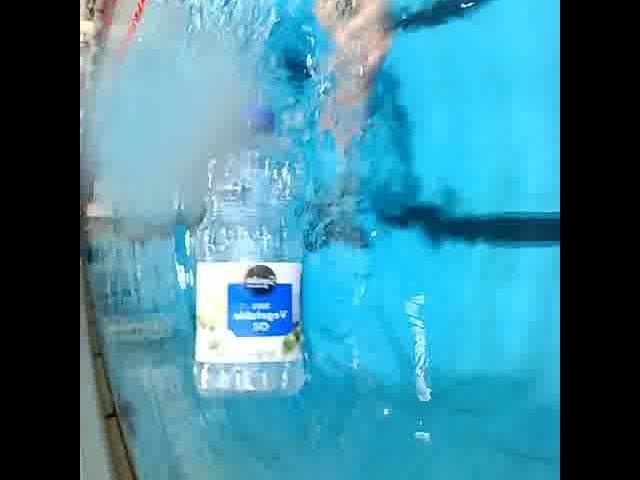Bottle: (191, 97, 309, 400)
